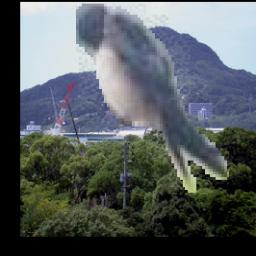Swallow: (77, 4, 230, 195)
